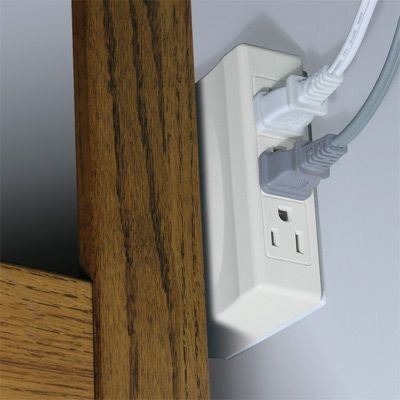outlet: (260, 200, 309, 256)
